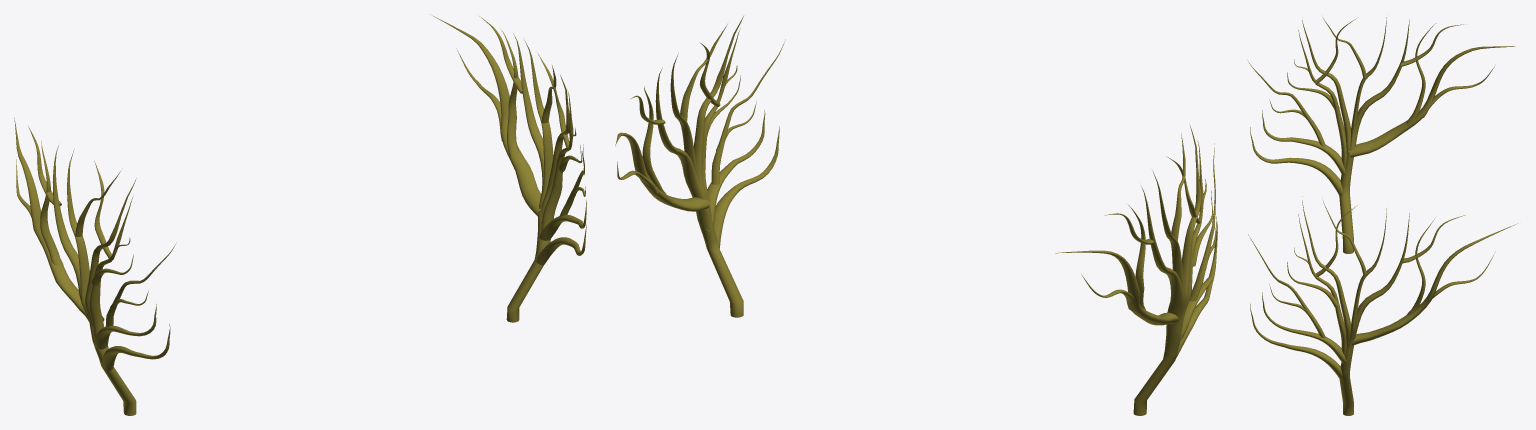
Rendered from Nervio_Auriculotemporal.obj.
3 renders of one model, left to right at view 1: azimuth 30°, elevation 25°; view 2: azimuth 150°, elevation 25°; view 3: azimuth 270°, elevation 25°, orthographic. The views are drawn at different scales.
Visible parts, largest first — view 1: Nervio_Auriculotemporal; view 2: Nervio_Auriculotemporal; view 3: Nervio_Auriculotemporal.
Boxes of the visible parts, <box> form: Nervio_Auriculotemporal: <box>14,14,586,415</box>; Nervio_Auriculotemporal: <box>615,16,1217,415</box>; Nervio_Auriculotemporal: <box>1248,17,1517,415</box>.
Size of the model in its own units: 0.6475 by 0.3379 by 0.372.
